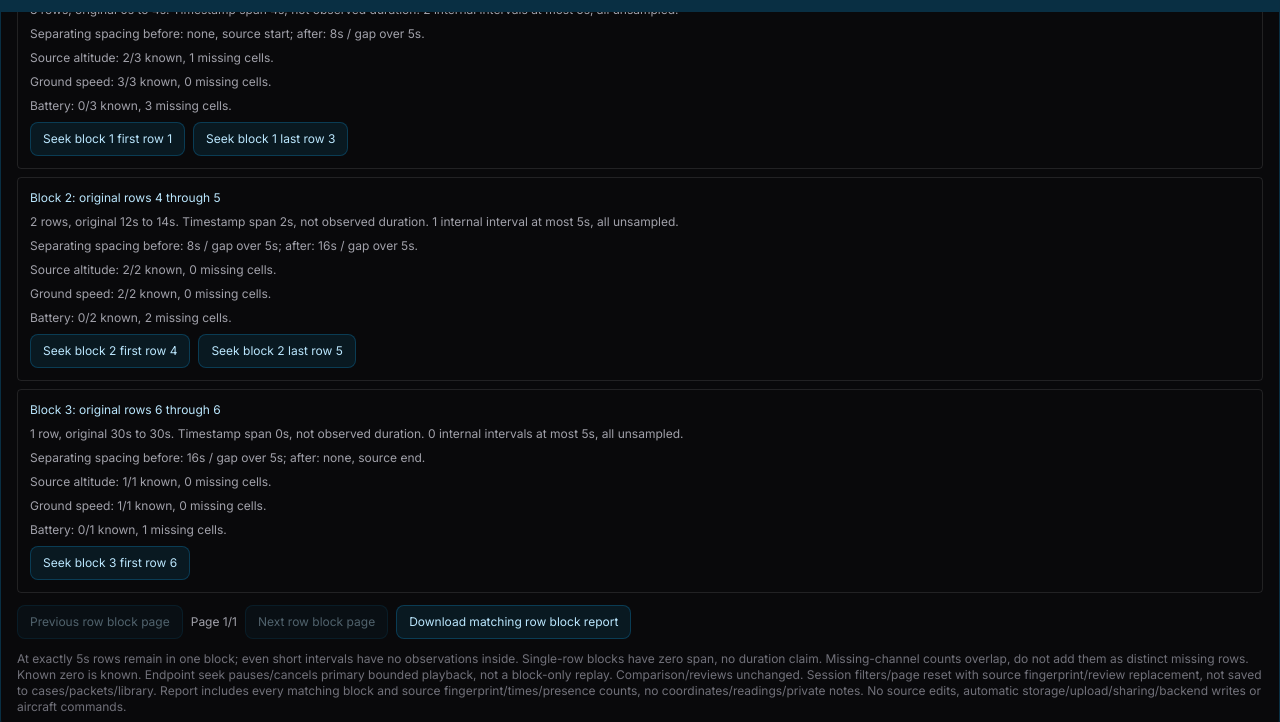
Test: recorded row block ledger workflow › download failure preserves ledger/filter
(page scrolled)
Click the button "Download matching row block report" at [514, 622], box top-left (396, 604), bottom-right (631, 638)
(page scrolled)
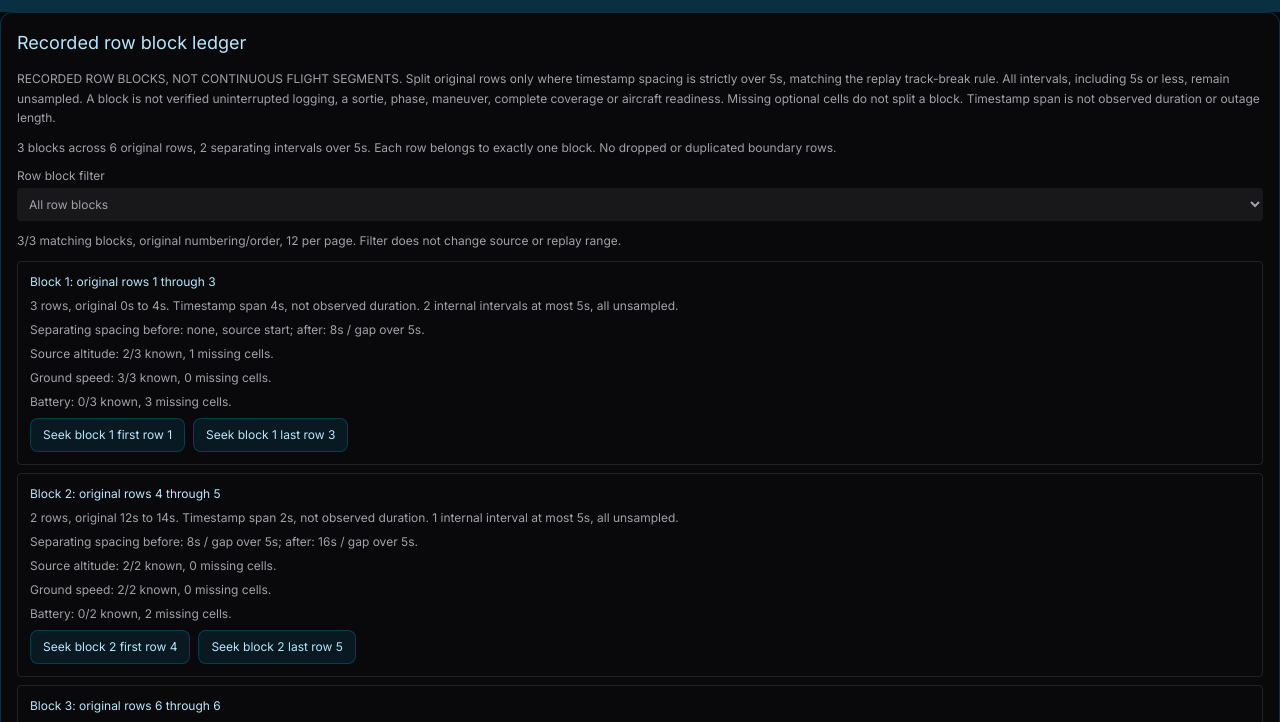
Result: the text named "Matching block count" shows "3/3" at top-left (17, 232), bottom-right (621, 248)
